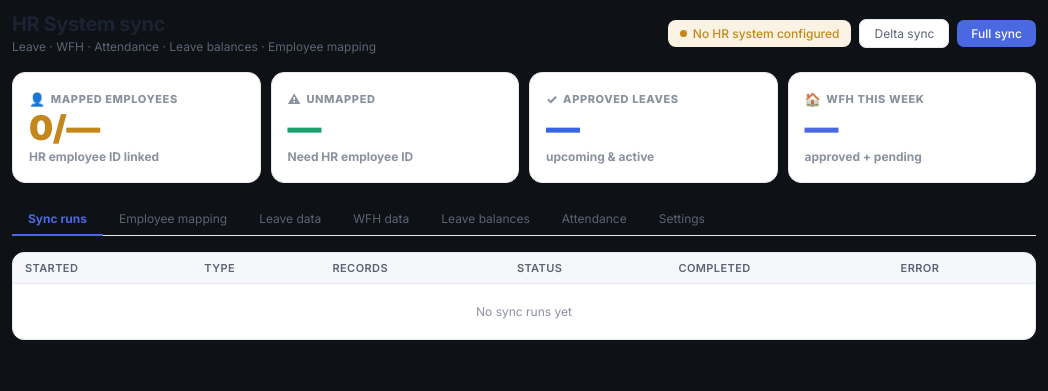
Test: leave data tab › shows days column
Click the button "Leave data" at {"x": 290, "y": 220}, box left=243, top=203, right=337, bottom=236
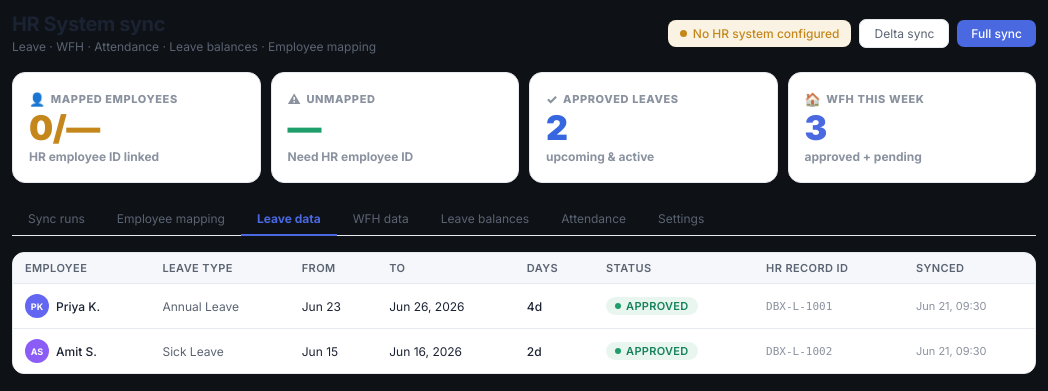
expect the text "4d" is shown: met, box left=515, top=284, right=594, bottom=328
